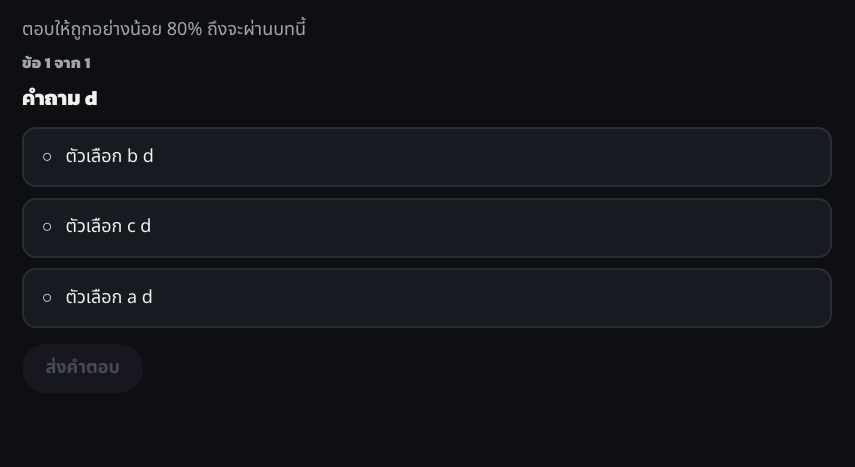
it: QuizView › หลังส่งคำตอบ ตัวเลือกยังเป็น .quiz-choice ที่มีสไตล์ของตัวเอง (ไม่โดนฐาน disabled ทับ)
The width and height of the screenshot is (855, 467).
Click the button "○ ตัวเลือก a d".
click(109, 297)  # box top-left (22, 268), bottom-right (832, 328)
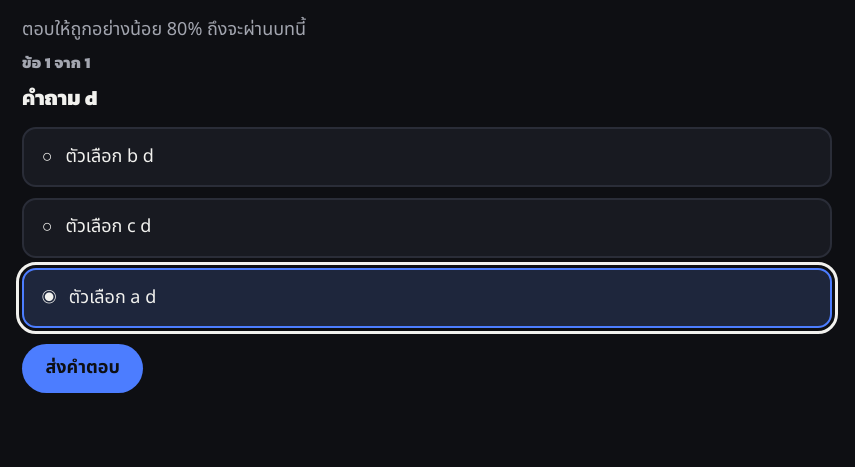
Click the button "ส่งคำตอบ".
click(83, 369)  # box top-left (22, 344), bottom-right (143, 393)
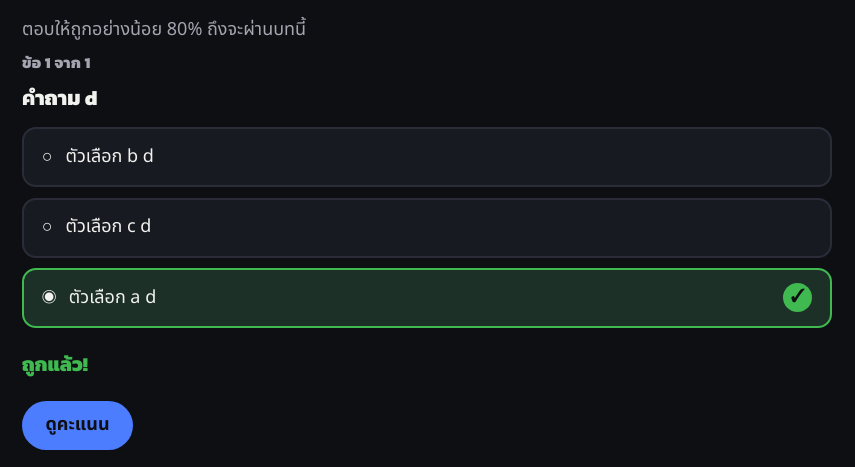
Expected: the button "◉ ตัวเลือก a d ✓" is disabled, top-left (22, 268), bottom-right (832, 328)
